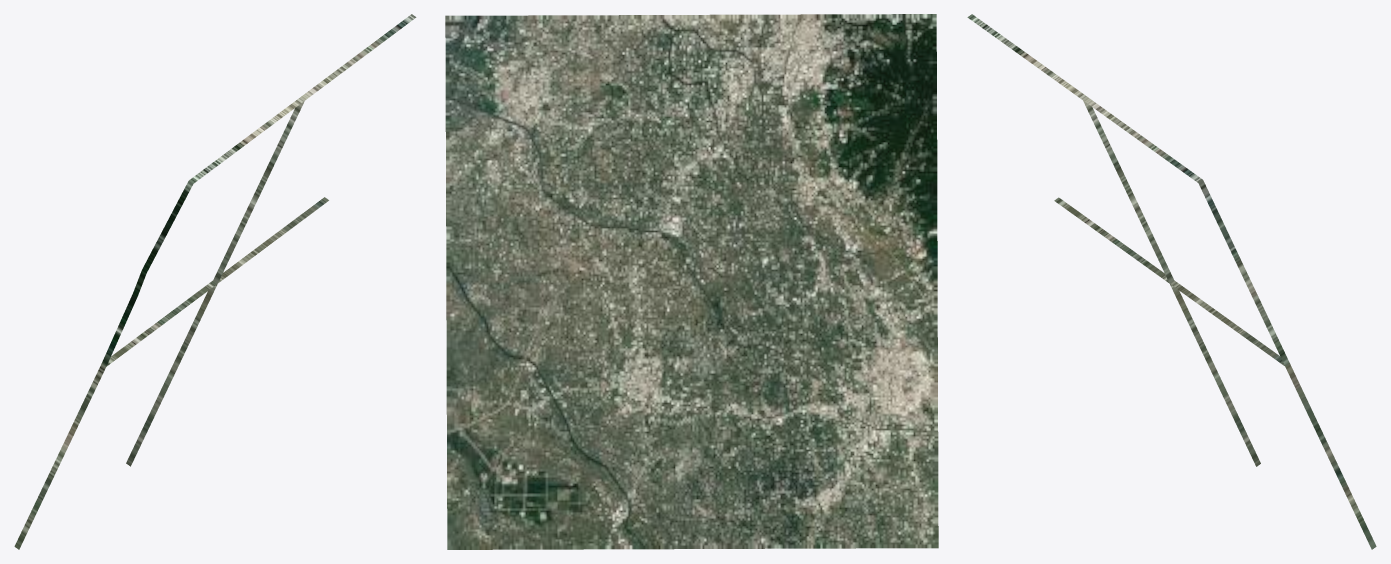
3 views of the same model, side by side, from view 1: azimuth 30°, elevation 25°; view 2: azimuth 150°, elevation 25°; view 3: azimuth 270°, elevation 25° (orthographic). The views are drawn at different scales.
Bounding box in the file's own units: 19689 × 18005 × 16204.
1 material, 1 textured.
